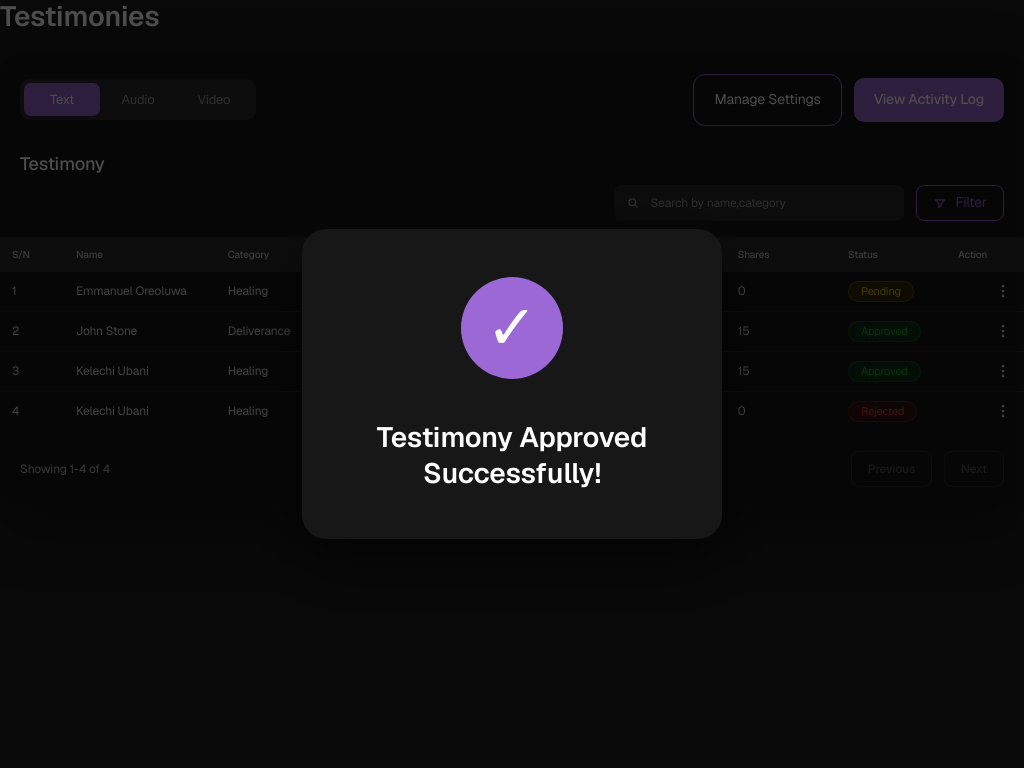
Test: TestimoniesPage › closes route-opened success modal without router navigation
What coordinates should you click on to do the following:
click the button named "Close testimony approved success modal"
I would click on:
 (61, 384)
Its box is [0,0,1023,767].
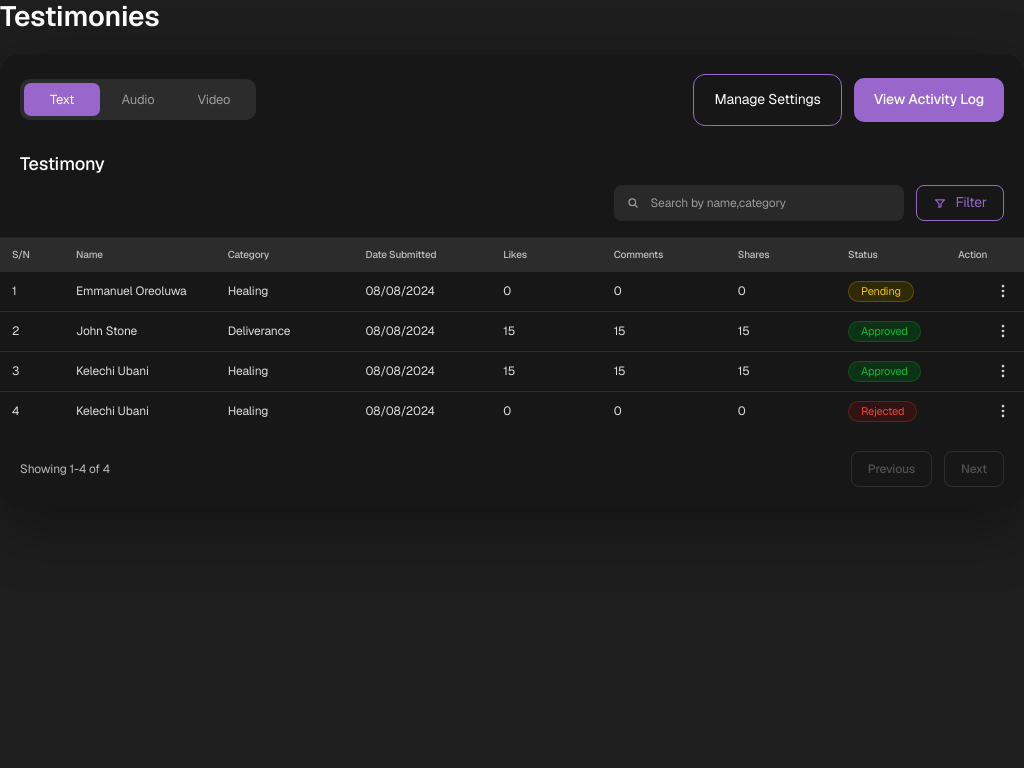
Check: the text "Testimony Approved Successfully!" is gone
